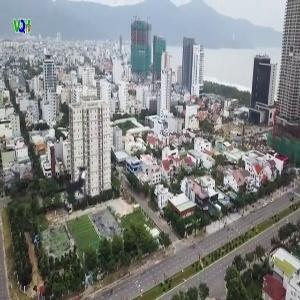drone: (30, 137, 132, 239)
